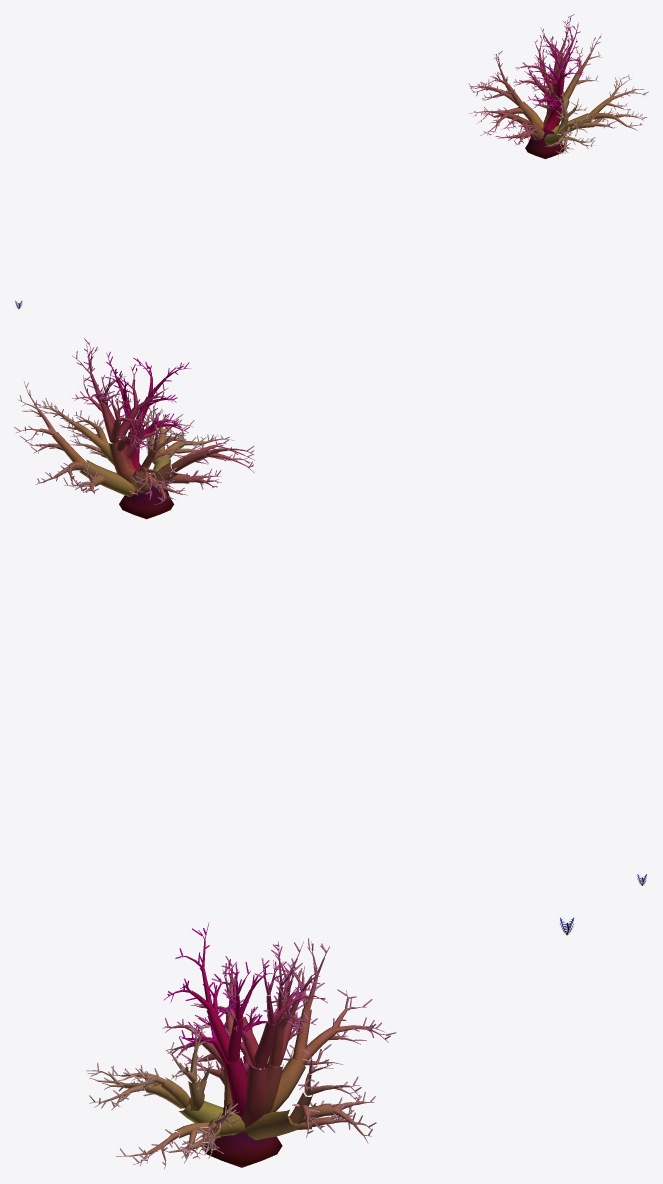
File: kenya.glb
3 views of the same model, one above another, from view 1: azimuth 30°, elevation 25°; view 2: azimuth 150°, elevation 25°; view 3: azimuth 270°, elevation 25° (orthographic). The views are drawn at different scales.
Parts seen in each view (by area): view 1: Body; view 2: Body; view 3: Body.
Part boxes in pixels (box(x1,y1,x2,y2)): Body: box(468, 14, 648, 159); Body: box(14, 338, 254, 519); Body: box(86, 922, 396, 1169).
Size of the model in its own units: 83.6 by 34.18 by 32.94.
2 materials, 2 textured.
